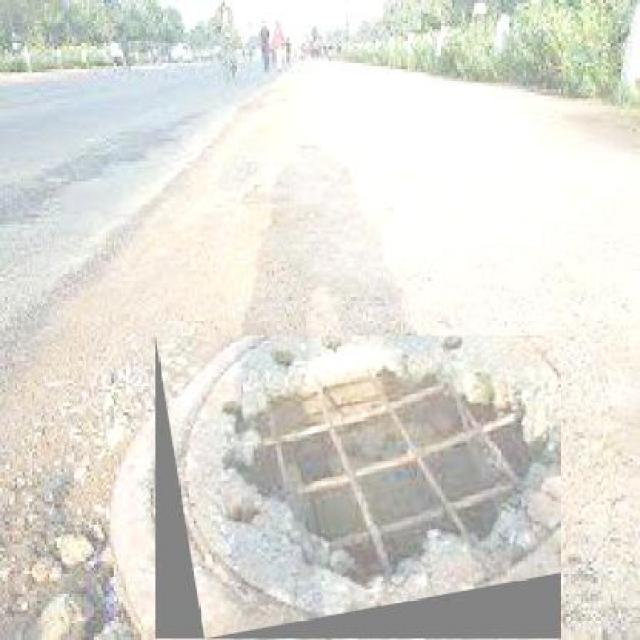Manhole: (157, 336, 562, 638)
